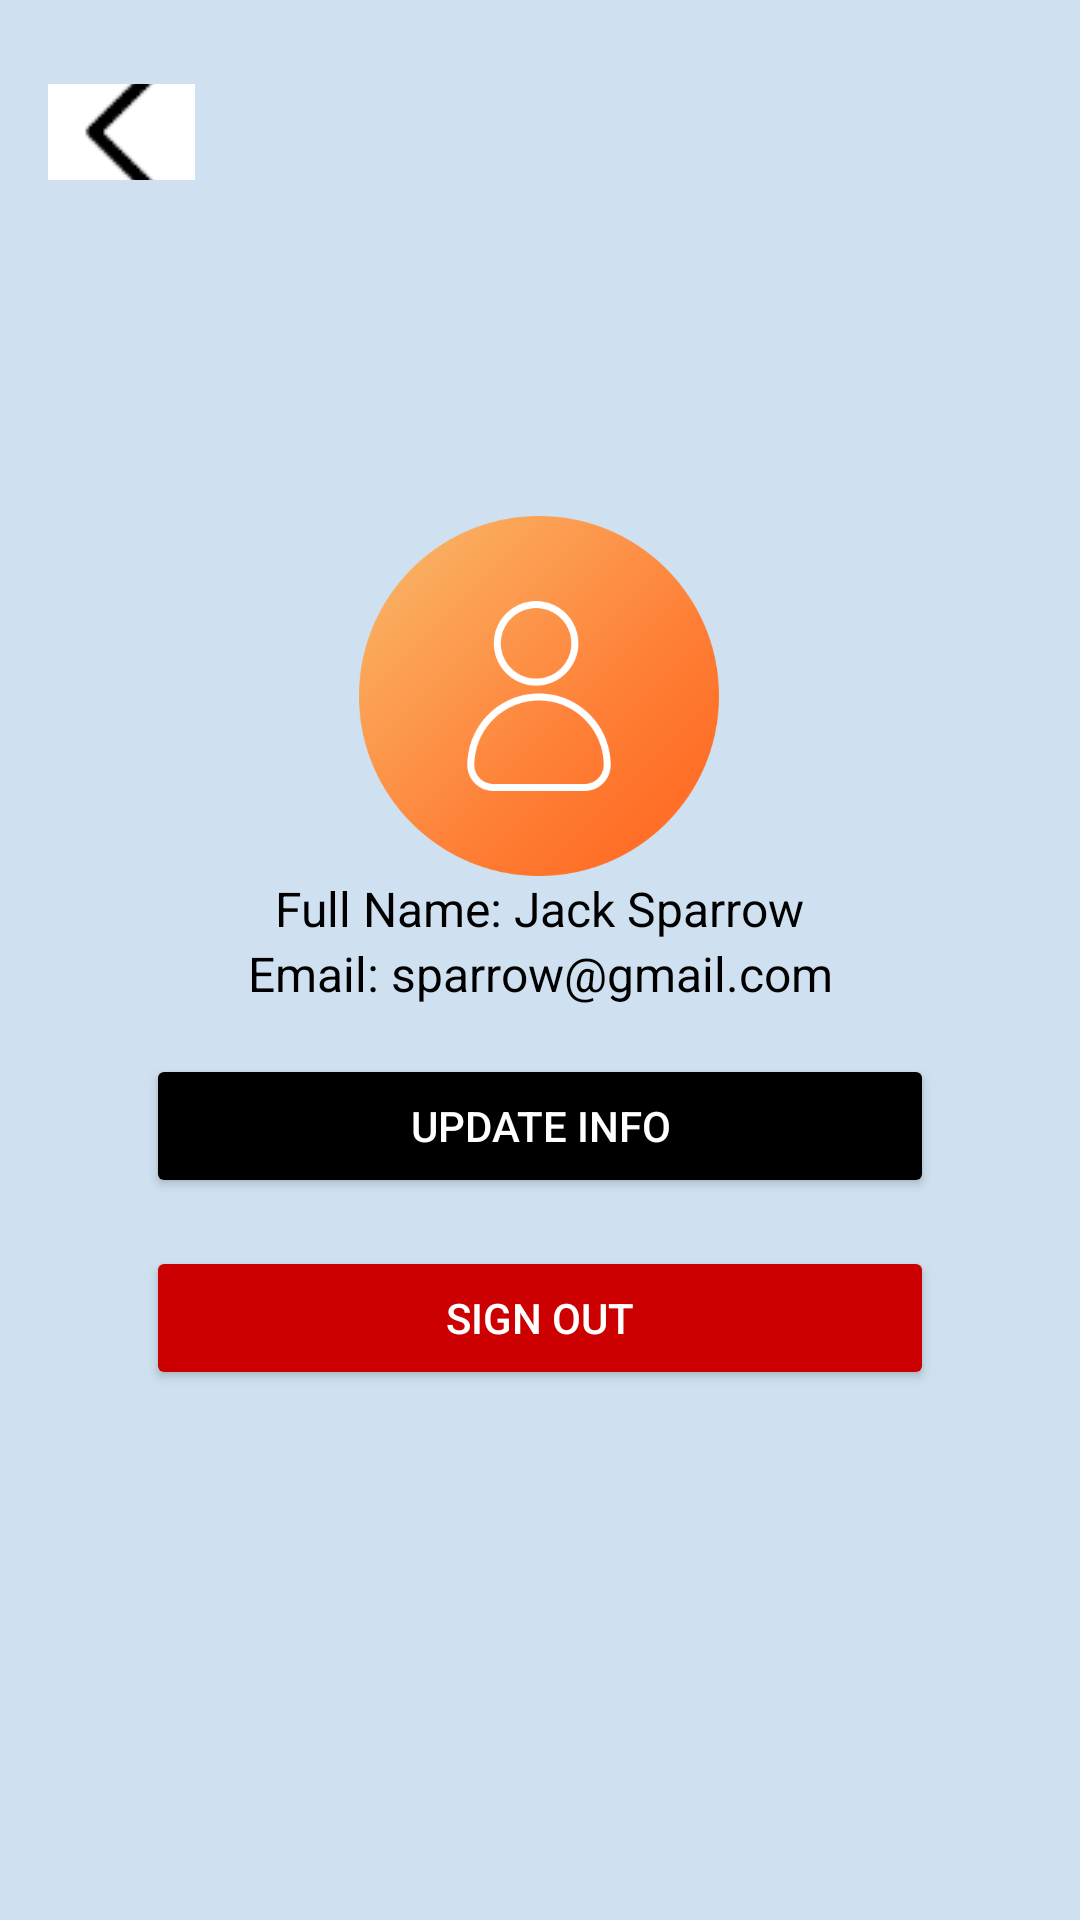

Where to tap for icons on this 1080px×1920px app screen, as (x,y):
back: (121,132)
user: (539,696)
